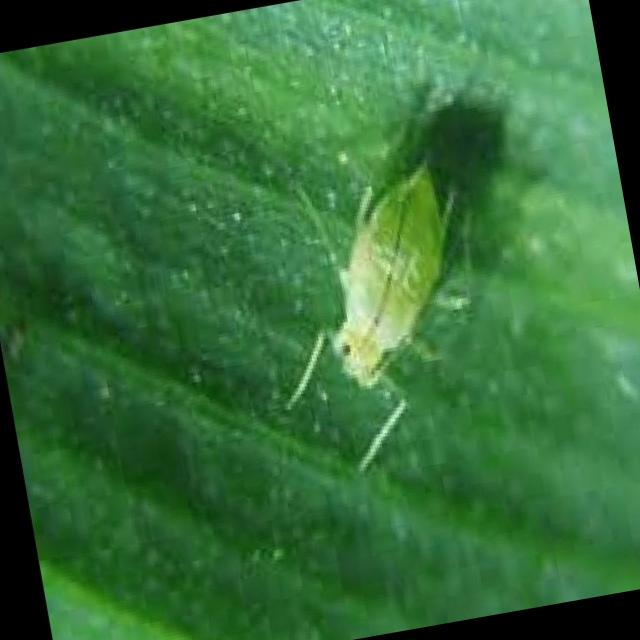aphid: (210, 89, 563, 504)
